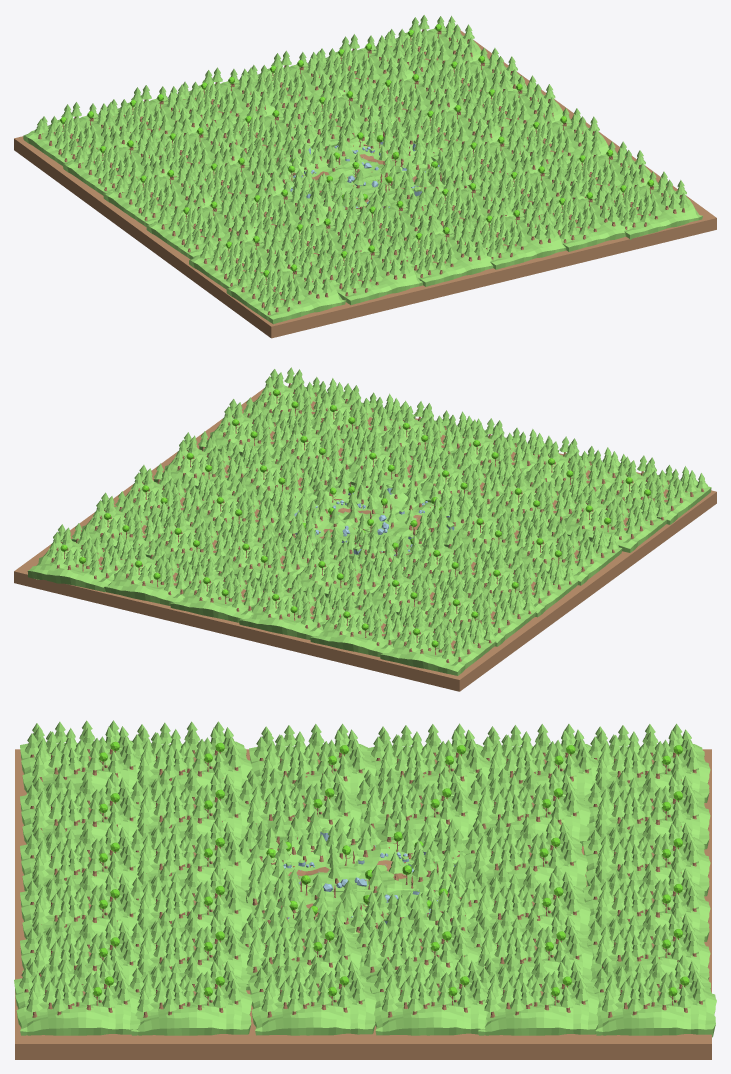
Rendered from fullForest.glb.
3 views of the same model, one above another, from view 1: azimuth 30°, elevation 25°; view 2: azimuth 150°, elevation 25°; view 3: azimuth 270°, elevation 25° (orthographic). The views are drawn at different scales.
Visible parts, largest first — view 1: Tree.625, Plane.118; view 2: Tree.625, Plane.118; view 3: Tree.625, Plane.118.
Boxes of the visible parts, left/top/right/bottom form: Tree.625: left=23, top=15, right=702, bottom=324; Plane.118: left=14, top=30, right=716, bottom=338; Tree.625: left=27, top=367, right=711, bottom=675; Plane.118: left=14, top=388, right=716, bottom=691; Tree.625: left=14, top=720, right=716, bottom=1037; Plane.118: left=15, top=749, right=711, bottom=1059.
Bounding box in the file's own units: 94.69 × 9.17 × 95.43.
